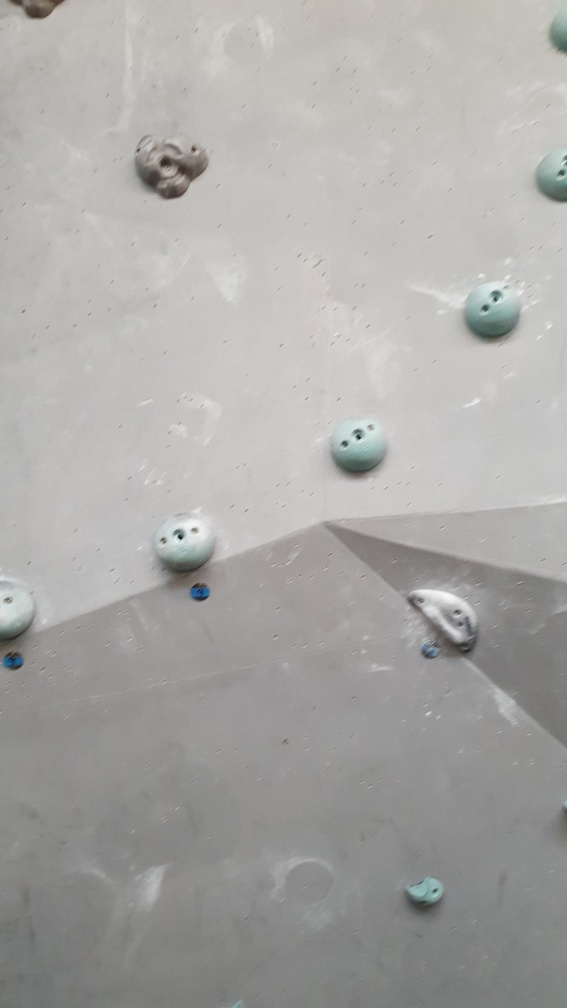Hand Start: (188, 579, 214, 601), (2, 648, 24, 673), (421, 641, 442, 661)
Jug: (133, 127, 212, 201)
Sloper: (330, 411, 391, 478), (155, 509, 217, 574), (464, 277, 522, 341), (1, 576, 40, 645), (534, 141, 567, 203)
